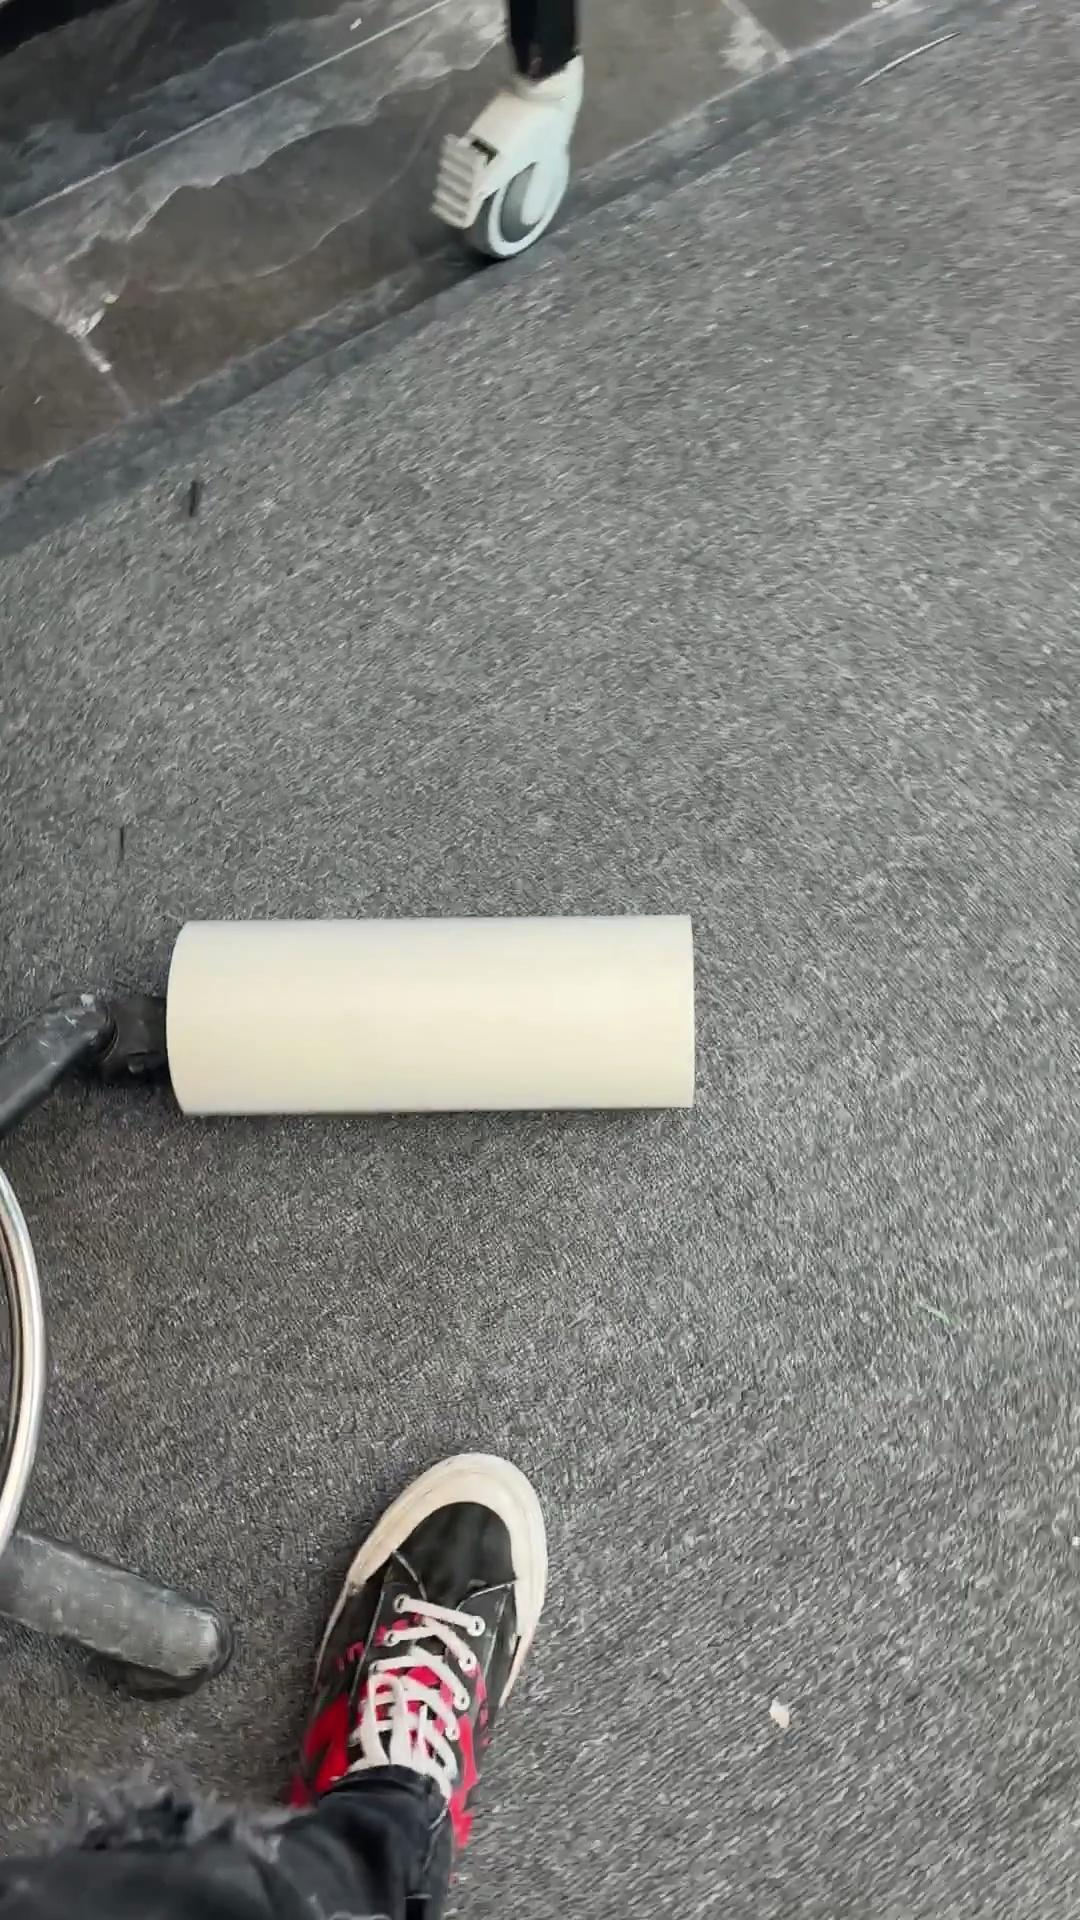CORAL: (161, 912, 697, 1117)
